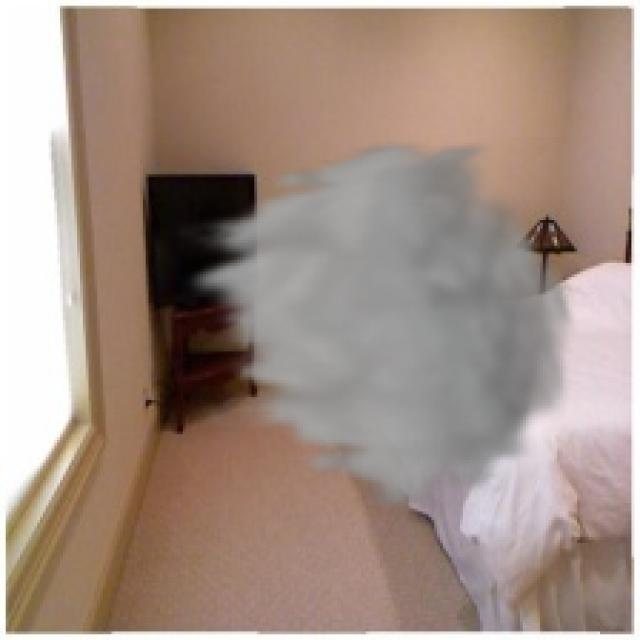smoke: (174, 137, 583, 514)
